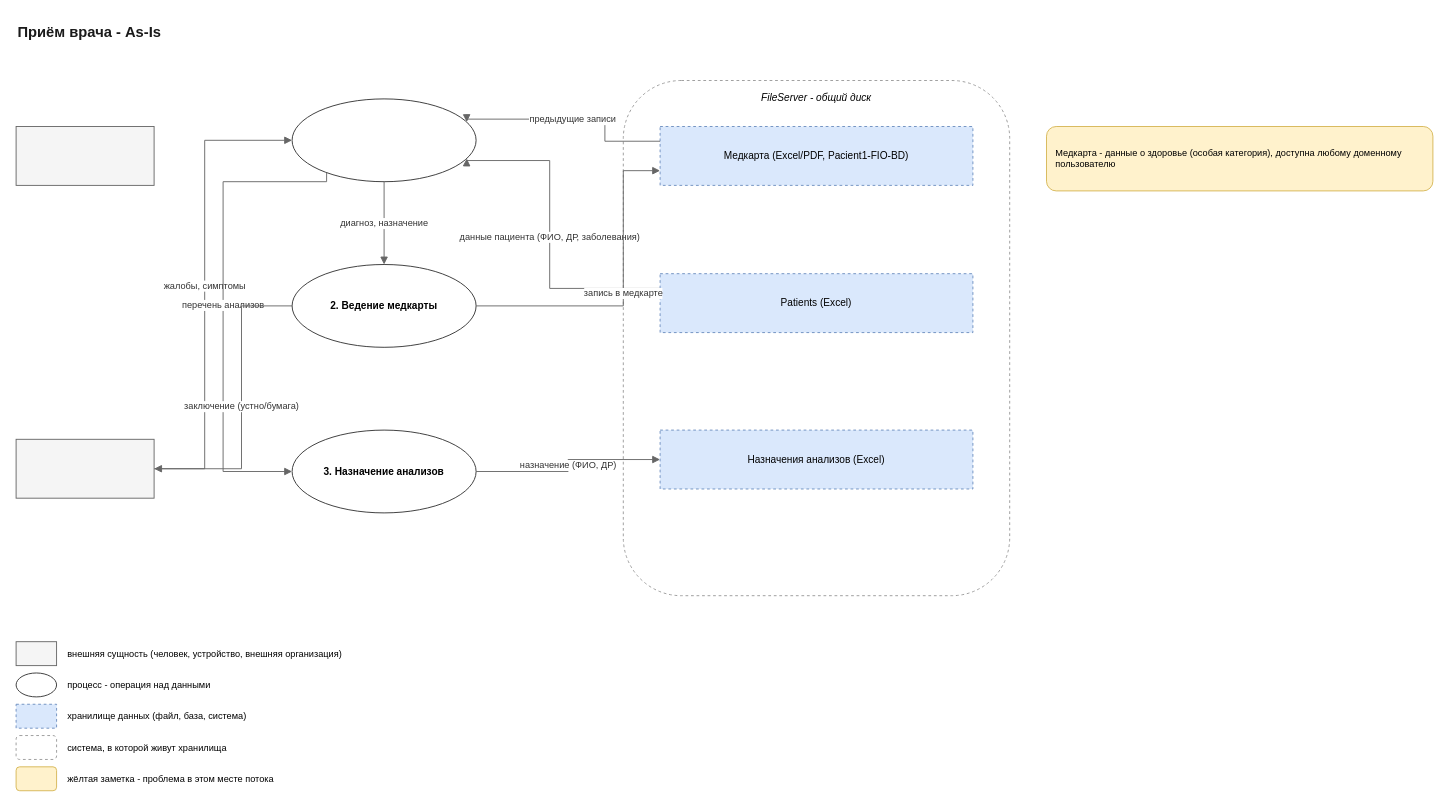
This 1449x807 diagram has some shape labels left out. Here are the shapes that lost their labels. From the top down, the centre of each, then its label:
At point (84, 155): "Врач".
At point (383, 140): "1. Проведение приёма".
At point (84, 468): "Пациент".
